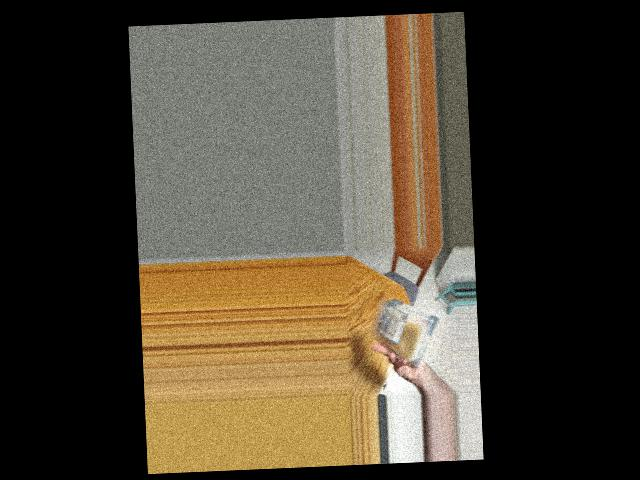cheese: (377, 291, 435, 366)
